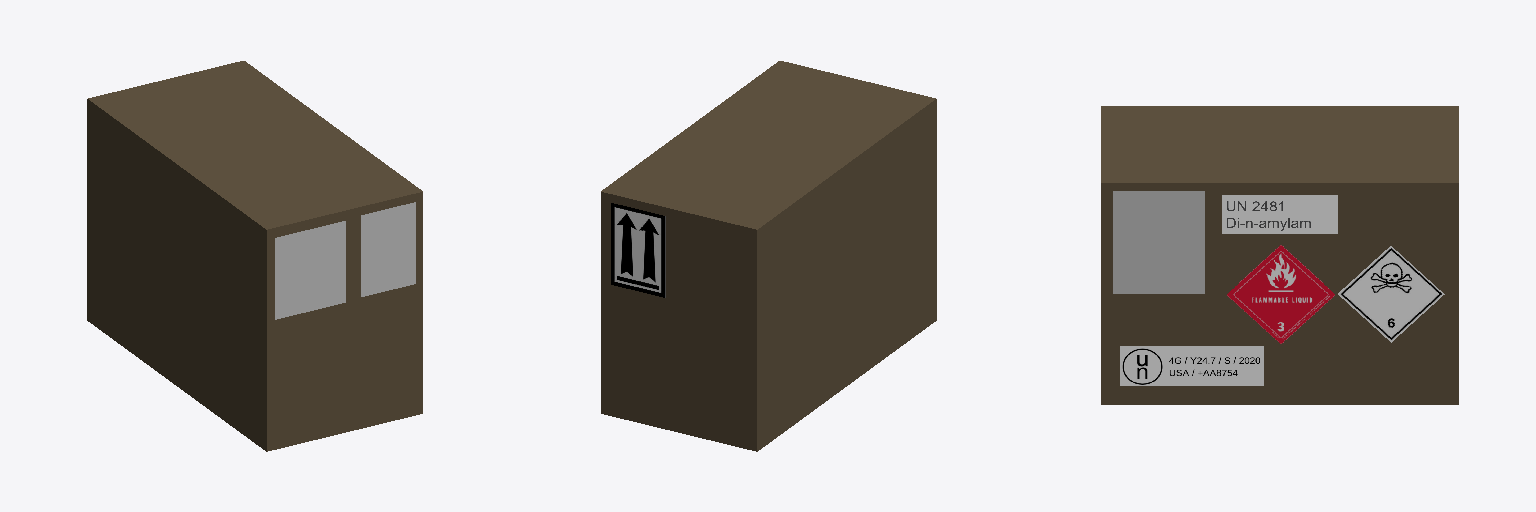
3 views of the same model, side by side, from view 1: azimuth 30°, elevation 25°; view 2: azimuth 150°, elevation 25°; view 3: azimuth 270°, elevation 25° (orthographic).
Visible parts, largest first — view 1: Cube, Screenshot_2025-04-01_151141, Screenshot_2025-04-02_141838; view 2: Cube, image30; view 3: Cube, Screenshot_2025-04-02_141724, image29, image32, image53, text1.
Part boxes in pixels (x1,y1,x2,y2): Cube: (87, 61, 422, 451); Screenshot_2025-04-01_151141: (275, 221, 345, 319); Screenshot_2025-04-02_141838: (361, 202, 415, 296); Cube: (601, 61, 936, 451); image30: (611, 203, 665, 297); Cube: (1101, 106, 1458, 404); Screenshot_2025-04-02_141724: (1113, 191, 1204, 293); image29: (1120, 346, 1263, 385); image32: (1227, 245, 1334, 343); image53: (1338, 246, 1444, 342); text1: (1222, 195, 1337, 233).
Bounding box in the file's own units: 2.02 × 2.71 × 3.98.
9 materials, 5 textured.